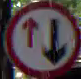Two way: (4, 3, 80, 74)
